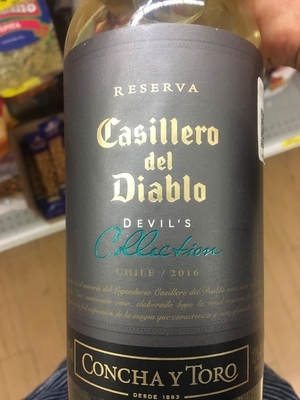casillero del diablo devils collection verde: (65, 10, 265, 400)
